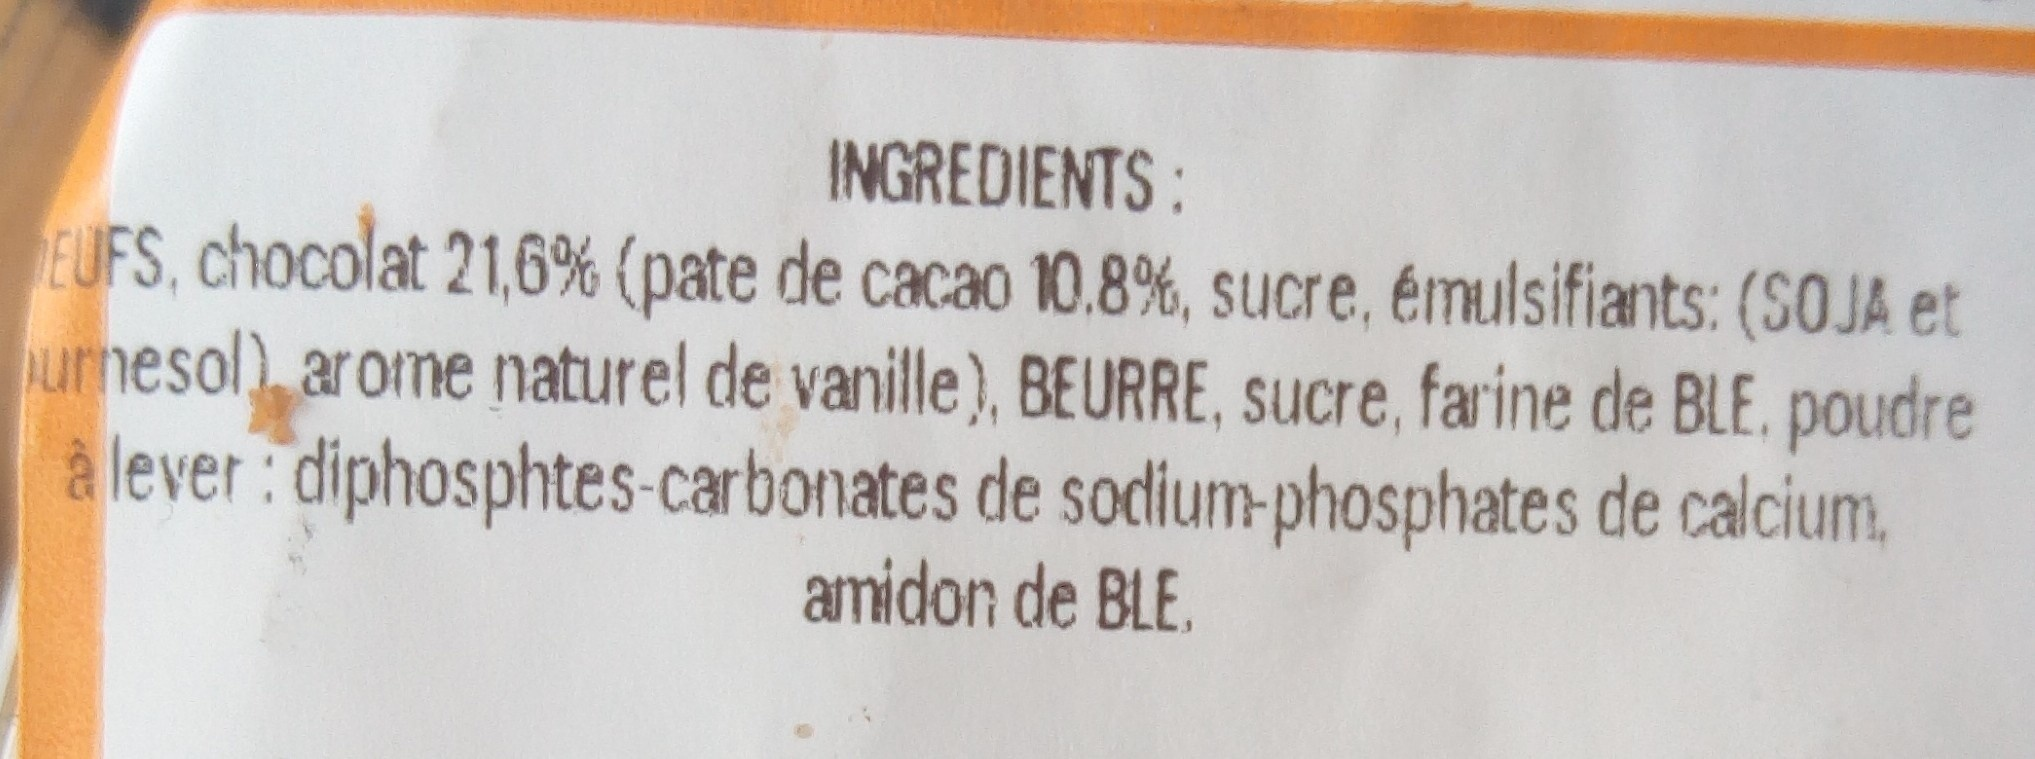ingredients: (22, 84, 2019, 685)
